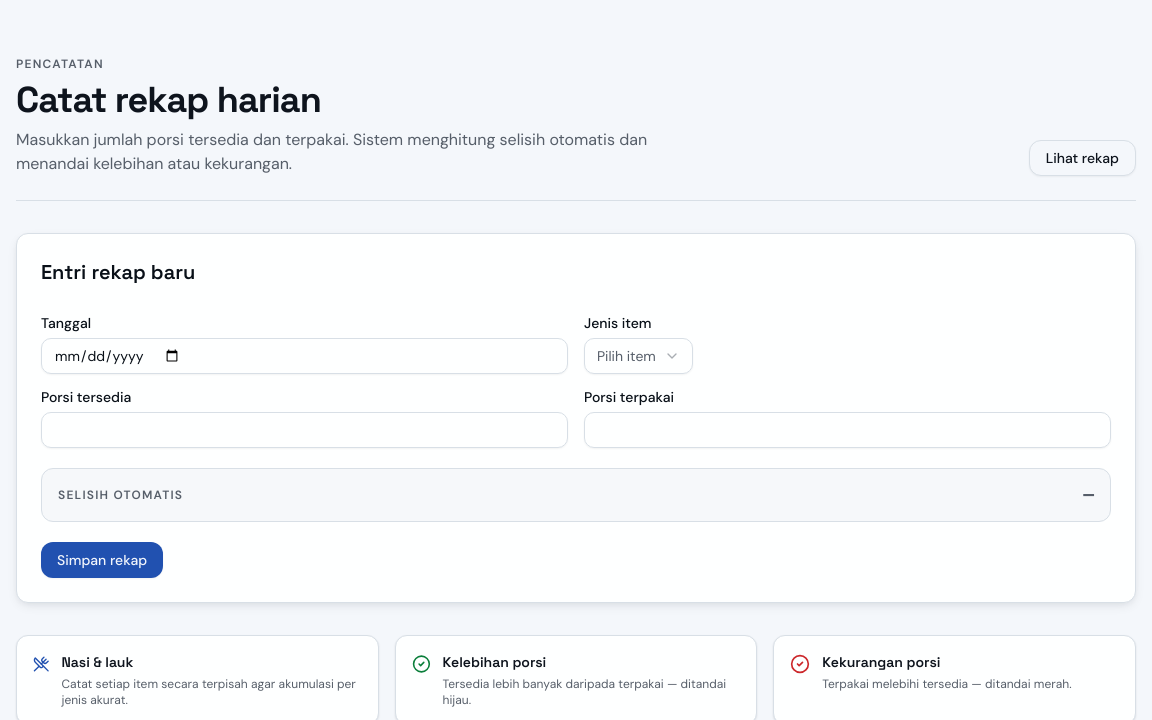
CatatPage › saves a recap and shows a confirmation
Type "2026-10-13" into the date field labelled "Tanggal".
click(304, 356); type("2026-10-13")  # box [41,338,568,374]
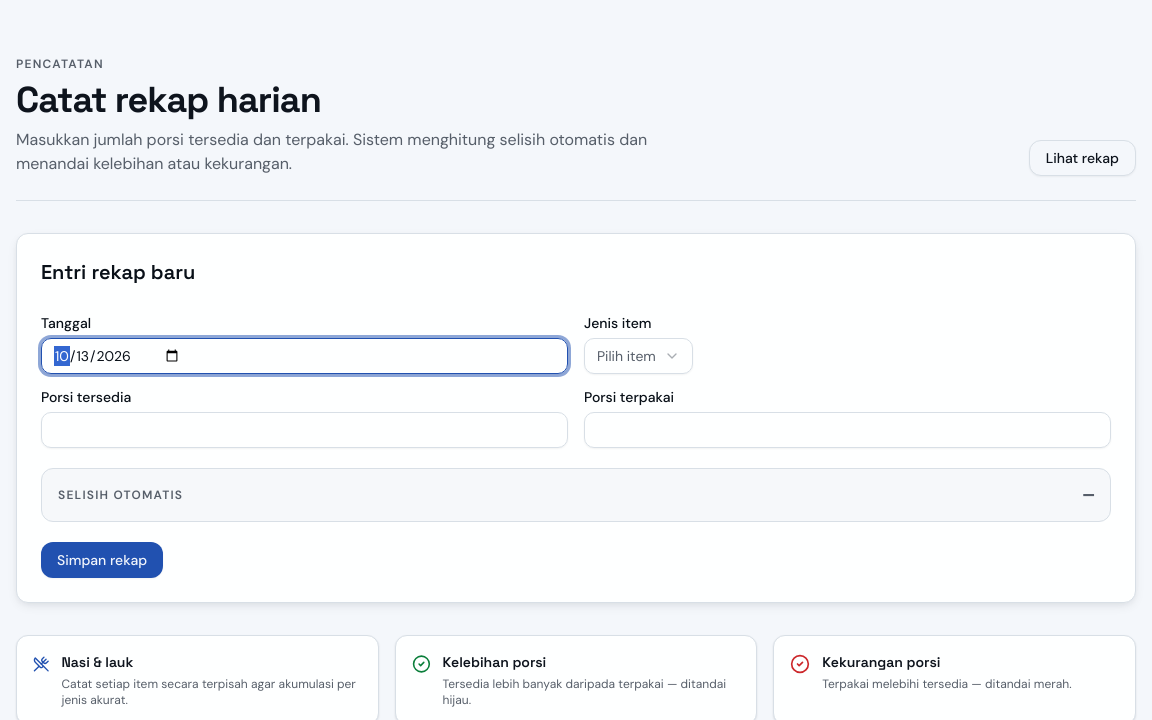
Click the dropdown named "Jenis item".
click(638, 356)  # box [584,338,693,374]
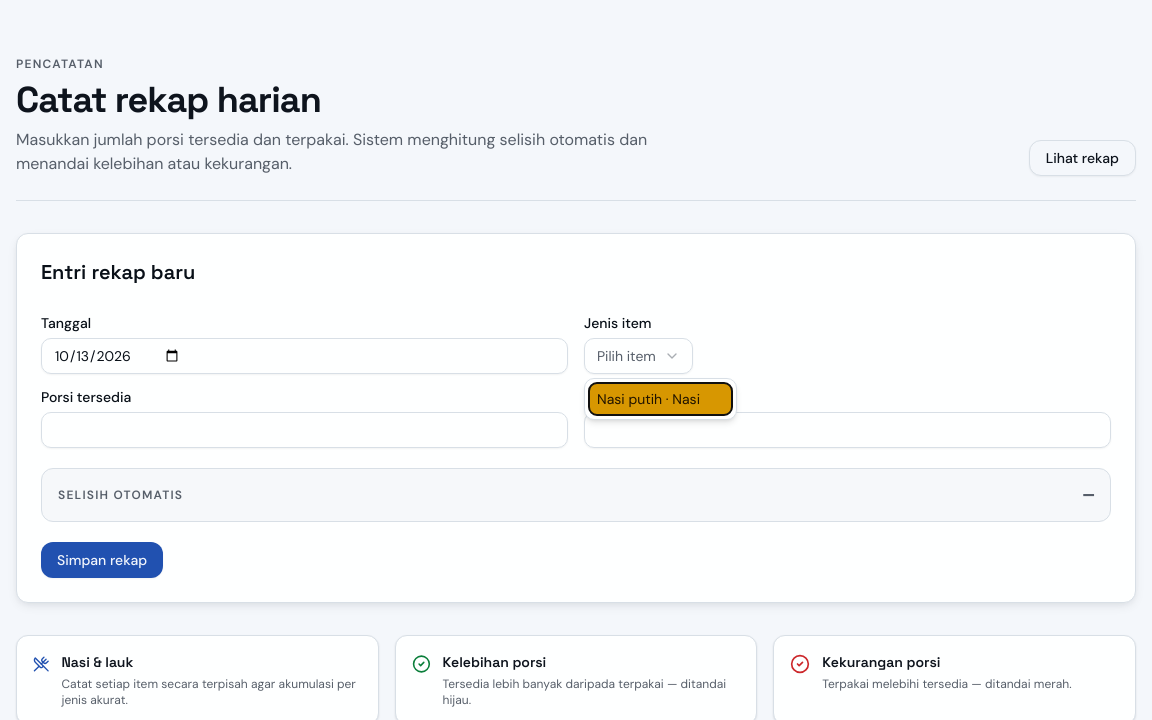
Click the option "Nasi putih · Nasi".
click(660, 399)  # box [589,383,732,415]
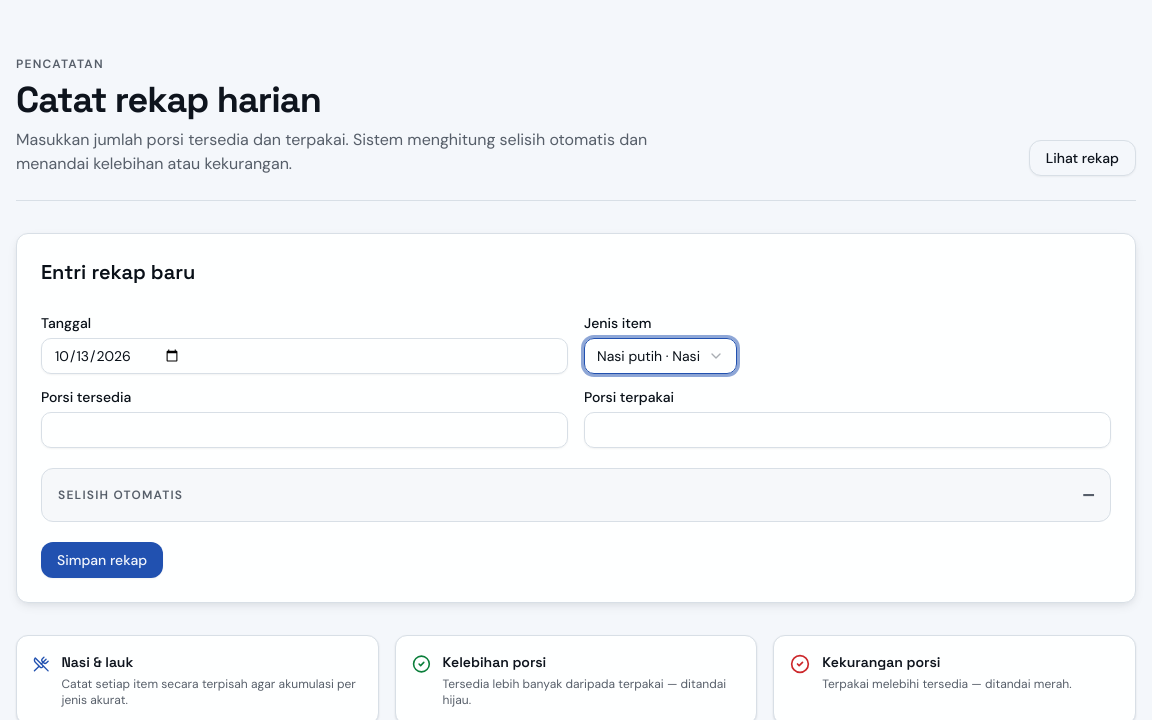
Type "100" into the number field labelled "Porsi tersedia".
click(304, 430); type("100")  # box [41,412,568,448]
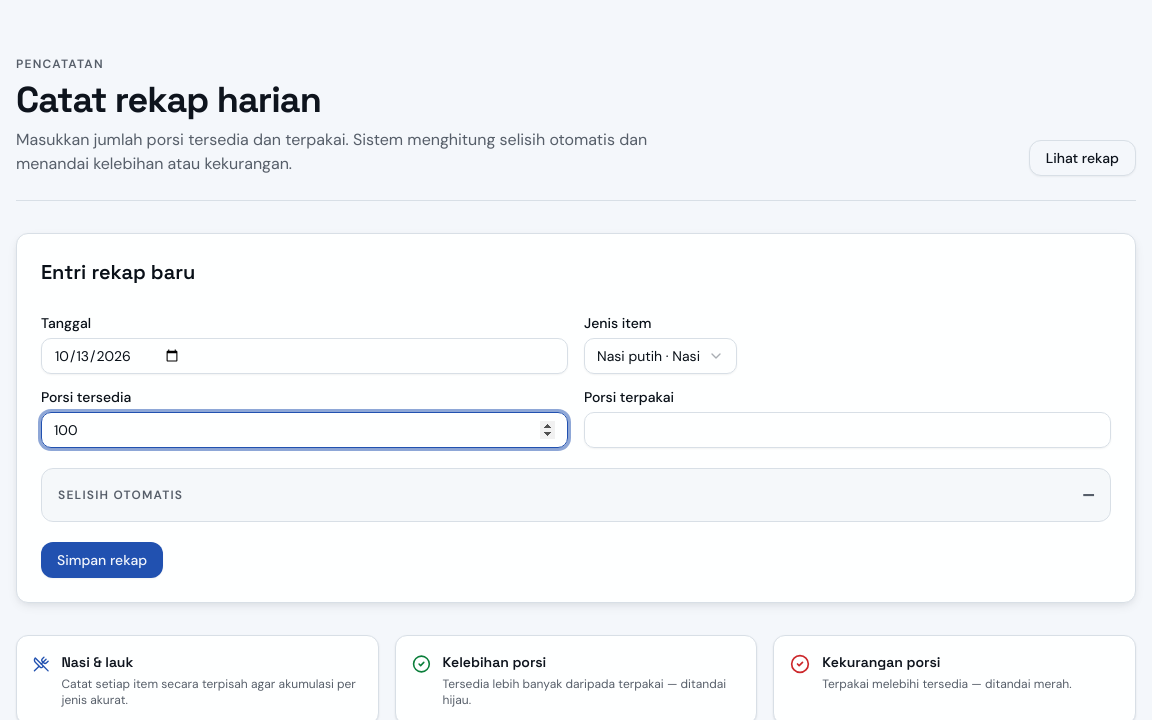
Type "80" into the number field labelled "Porsi terpakai".
click(848, 430); type("80")  # box [584,412,1111,448]
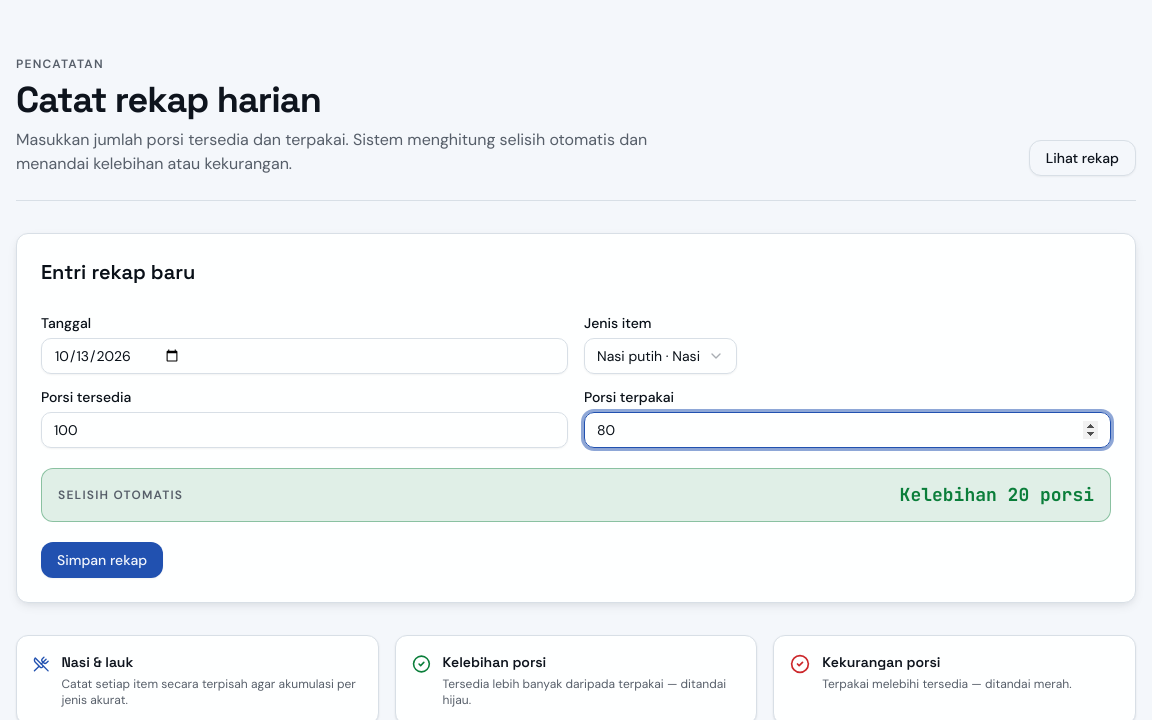
Click the button "Simpan rekap".
click(102, 560)  # box [41,542,163,578]
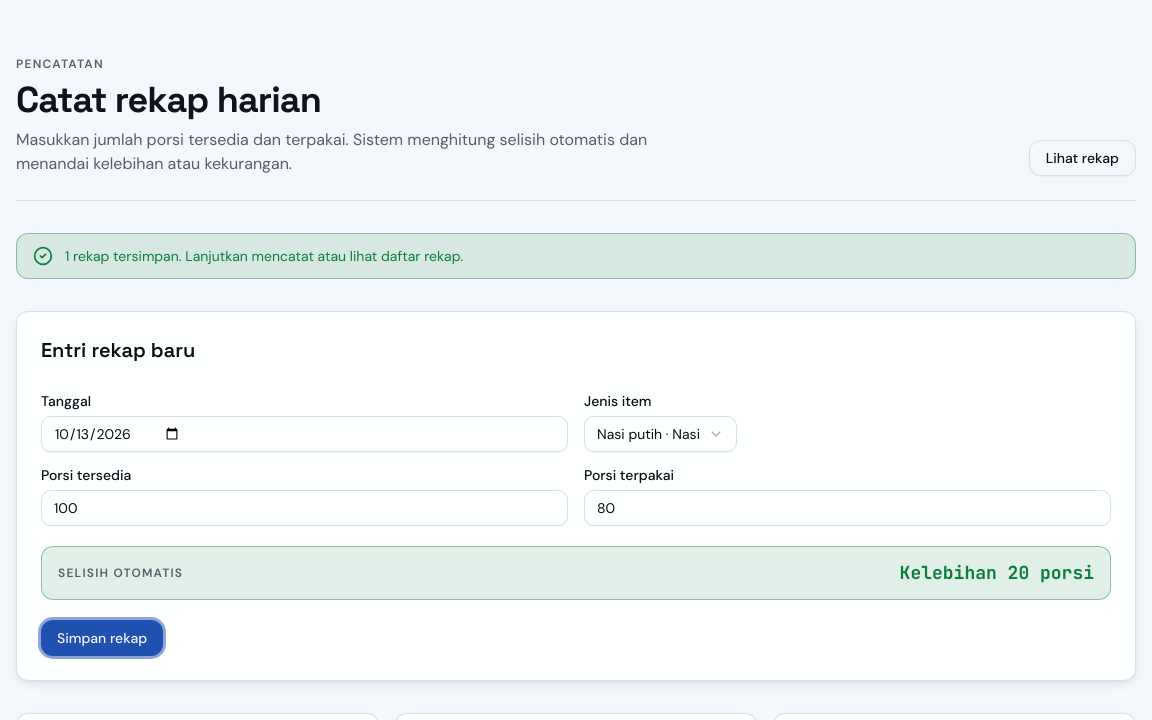
Expected: the text "1 rekap tersimpan" is shown, [65,246,463,266]
